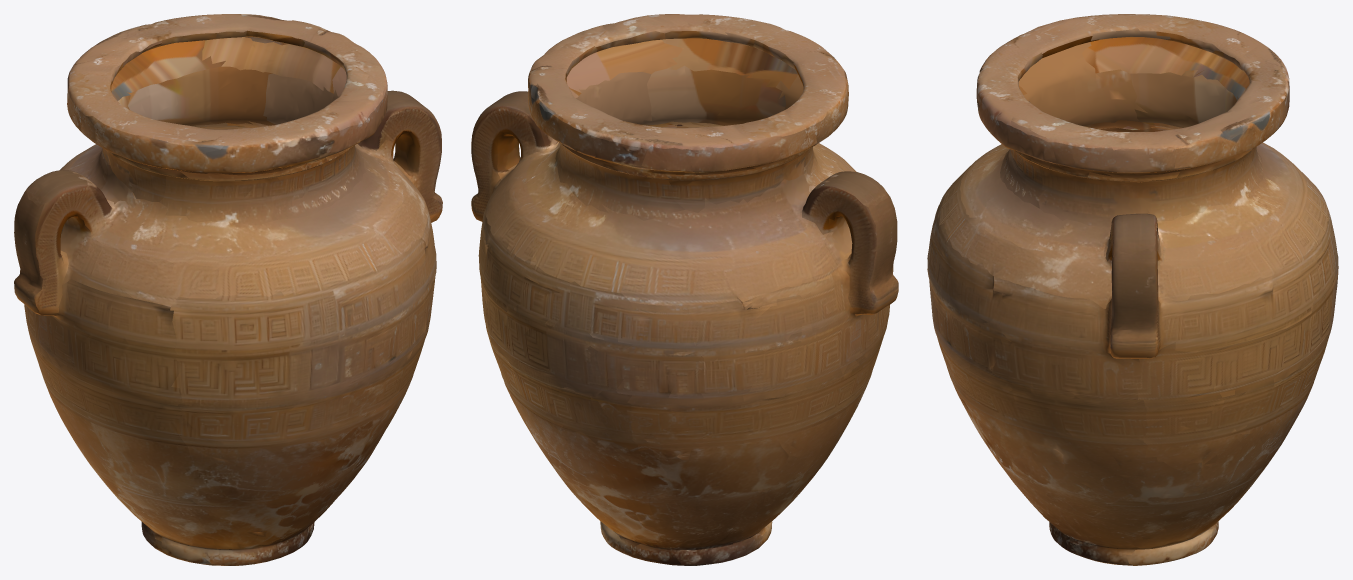
The model's file is ceremonial-urn.glb.
3 views of the same model, side by side, from view 1: azimuth 30°, elevation 25°; view 2: azimuth 150°, elevation 25°; view 3: azimuth 270°, elevation 25° (orthographic).
Parts seen in each view (by area): view 1: textured_mesh; view 2: textured_mesh; view 3: textured_mesh.
Part boxes in pixels (x1,y1,x2,y2): textured_mesh: [14, 14, 442, 565]; textured_mesh: [471, 14, 898, 565]; textured_mesh: [927, 14, 1338, 565].
Bounding box in the file's own units: 1.89 × 1.99 × 1.64.
Materials: 1 (1 with a texture image).
